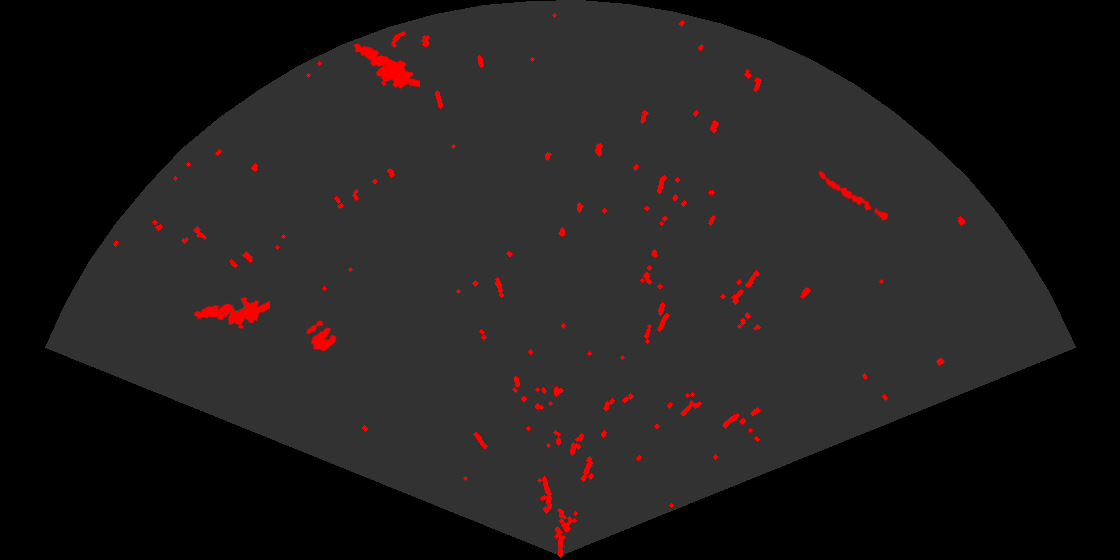ball: (305, 319, 338, 353)
chain: (817, 169, 891, 222)
frogman: (352, 42, 420, 90), (193, 295, 270, 330)
